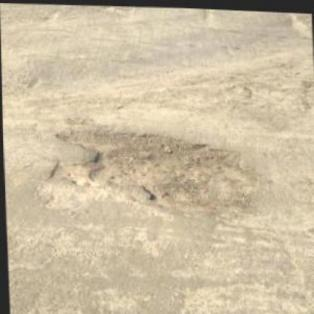Hueco: (45, 119, 262, 221)
